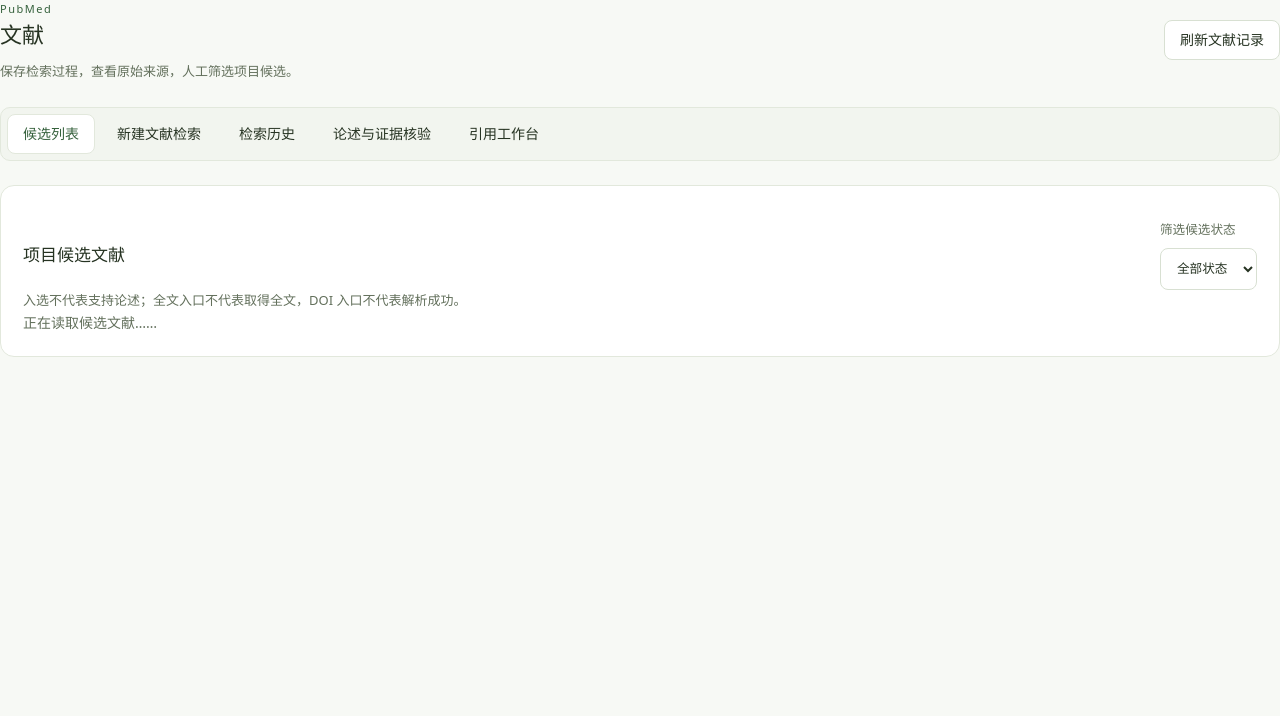
Test: opens independent checks and history from citations without fetching a paged check list
What coordinates should you click on to do the following:
click the button "引用工作台"
I would click on:
 (504, 134)
Its box is [453, 114, 555, 154].
(page scrolled)
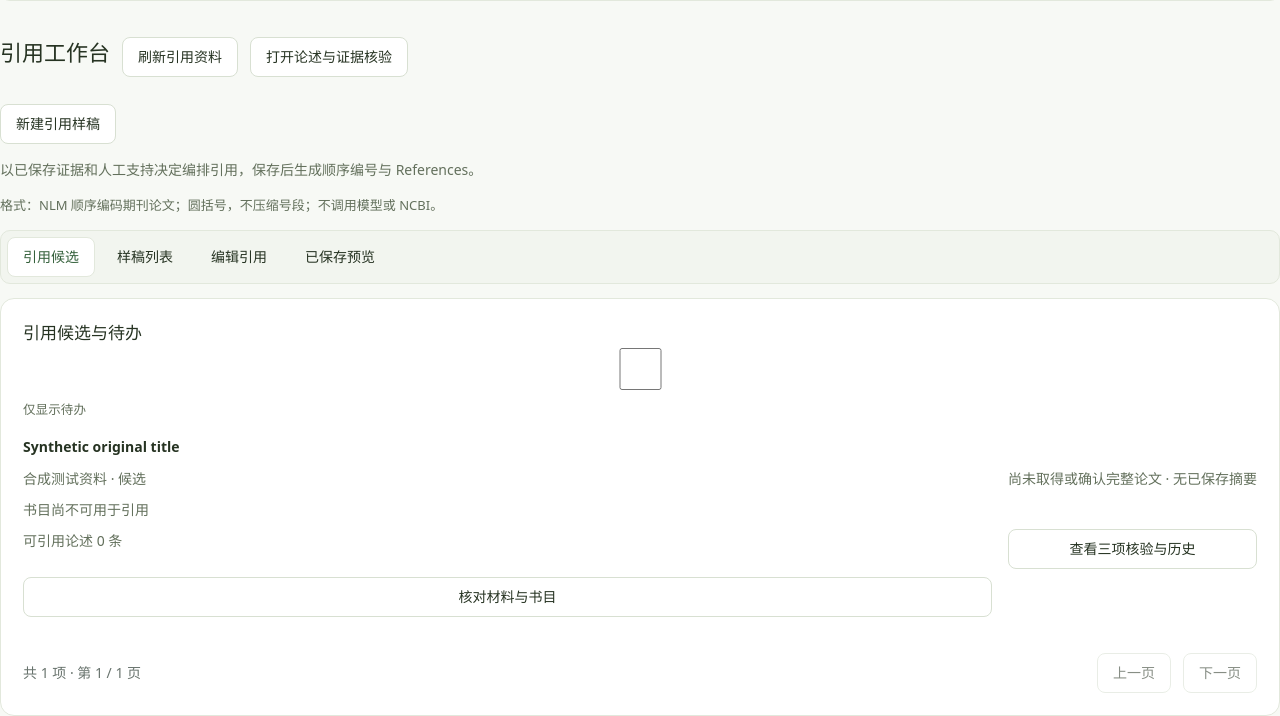
What coordinates should you click on to do the following:
click the button "查看三项核验与历史"
I would click on:
 (1132, 549)
Its box is [1008, 529, 1257, 569].
(page scrolled)
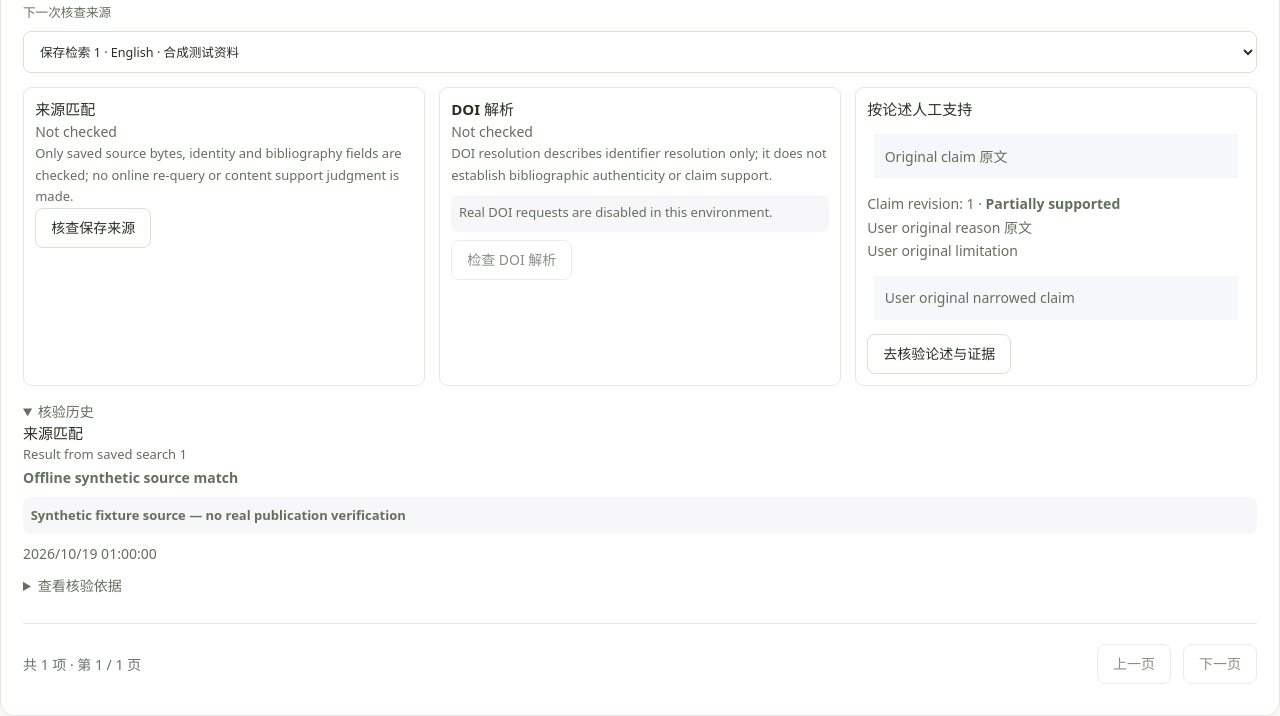
Check: the heading "DOI 解析" is shown, box [451, 99, 514, 119]
Check: the heading "按论述人工支持" is shown, box [867, 99, 972, 119]
Check: the text "Original claim 原文" is shown, box [874, 134, 1238, 178]
